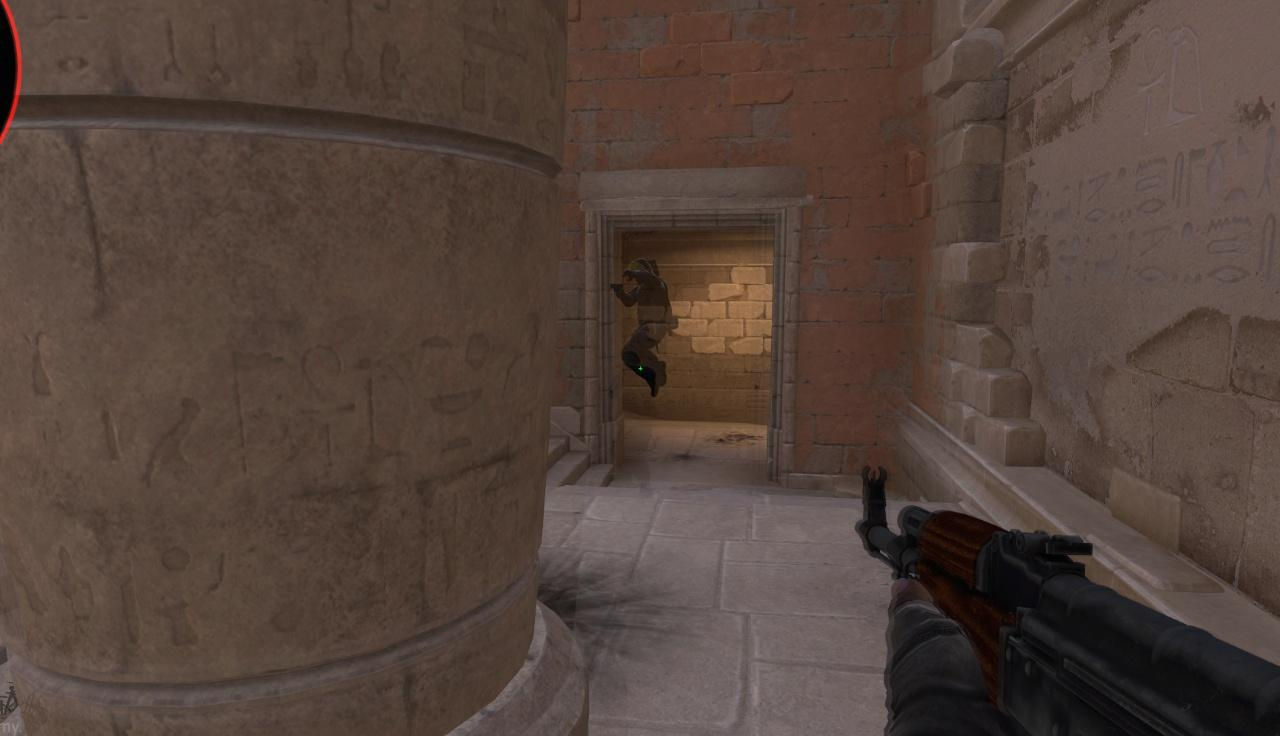ct: (621, 258, 668, 396)
cthead: (623, 259, 652, 278)
rifle: (849, 465, 1280, 736)
